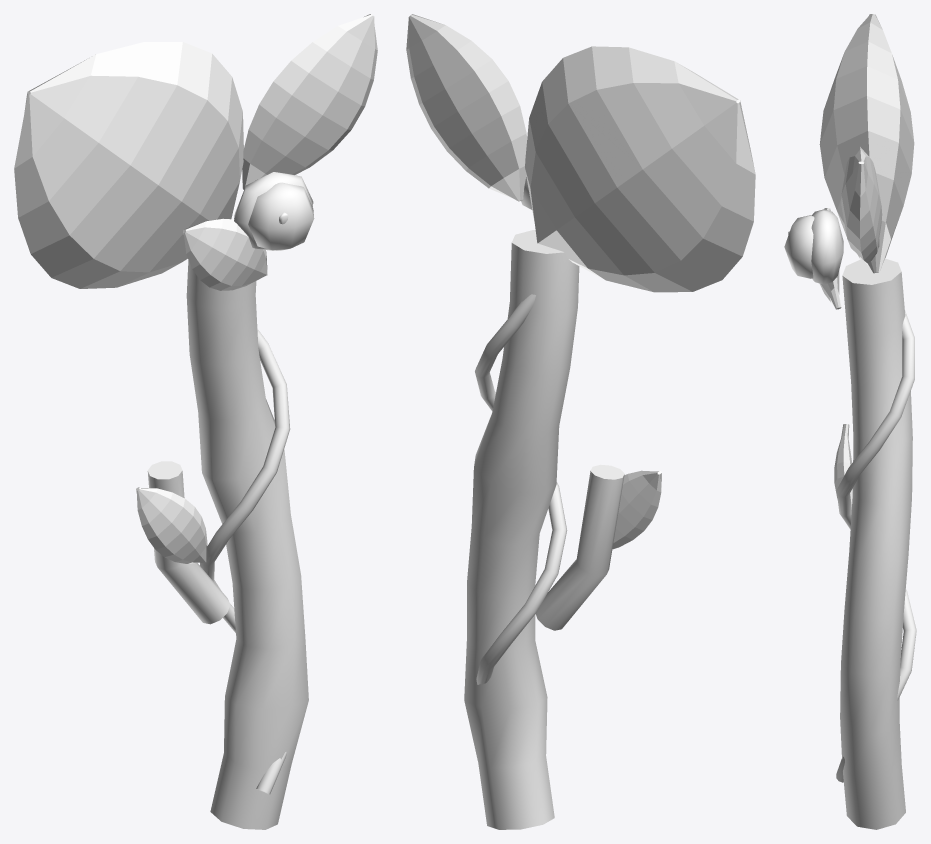
Rendered from axe.obj.
3 renders of one model, left to right at view 1: azimuth 30°, elevation 25°; view 2: azimuth 150°, elevation 25°; view 3: azimuth 270°, elevation 25°, orthographic. The views are drawn at different scales.
Visible parts, largest first — view 1: head, handle, ornaments; view 2: head, handle; view 3: handle, head, ornaments.
Part boxes in pixels (x1,y1,x2,y2): head: (14, 14, 377, 288); handle: (136, 260, 308, 829); ornaments: (183, 172, 314, 290); head: (406, 14, 755, 292); handle: (464, 230, 661, 829); handle: (834, 258, 916, 829); head: (819, 14, 914, 273); ornaments: (784, 208, 843, 309).
Bounding box in the file's own units: 0.4119 × 0.8889 × 0.1462.
